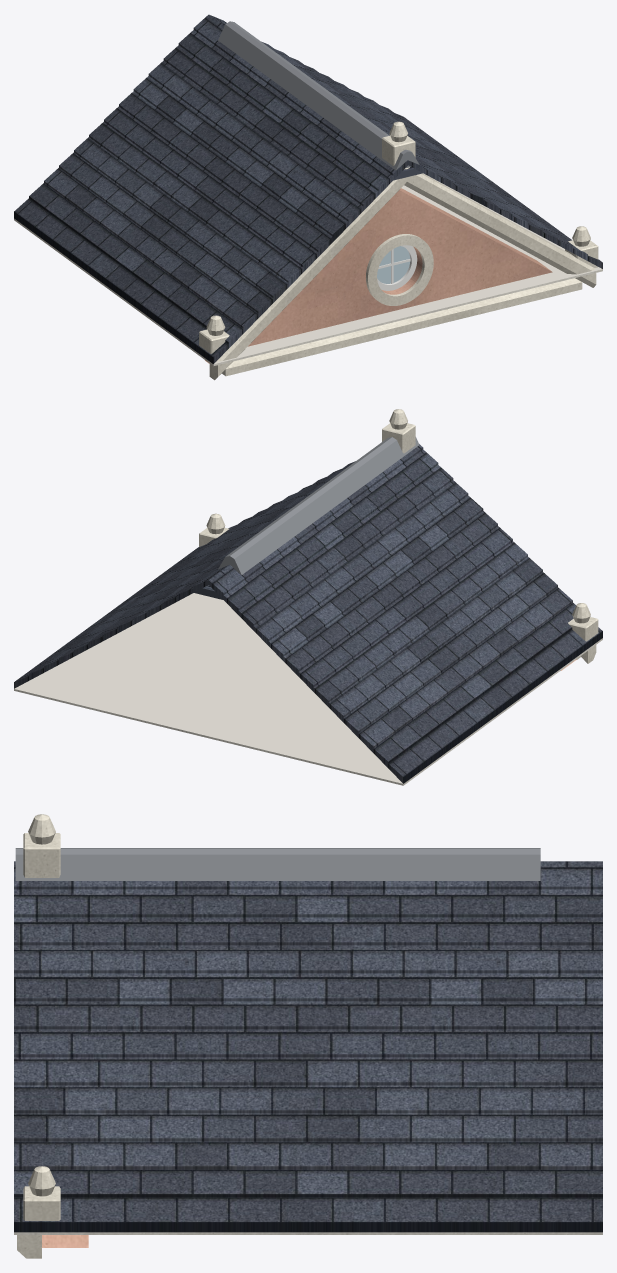
File: pediment.glb
3 renders of one model, top to bottom at view 1: azimuth 30°, elevation 25°; view 2: azimuth 150°, elevation 25°; view 3: azimuth 270°, elevation 25°, orthographic. The views are drawn at different scales.
Parts seen in each view (by area): view 1: pediment_shingles, pediment_trim, pediment_render, pediment_plaster, pediment_ridge, pediment_glass, pediment_frame; view 2: pediment_shingles, pediment_plaster, pediment_ridge, pediment_trim; view 3: pediment_shingles, pediment_ridge, pediment_trim, pediment_plaster, pediment_render.
Boxes of the visible parts, x1=… form: pediment_shingles: x1=14, y1=14, x2=602, y2=363; pediment_trim: x1=199, y1=121, x2=598, y2=380; pediment_render: x1=205, y1=188, x2=552, y2=363; pediment_plaster: x1=14, y1=173, x2=602, y2=366; pediment_ridge: x1=218, y1=21, x2=419, y2=170; pediment_glass: x1=377, y1=246, x2=410, y2=283; pediment_frame: x1=377, y1=245, x2=417, y2=290; pediment_shingles: x1=14, y1=444, x2=602, y2=783; pediment_plaster: x1=14, y1=593, x2=602, y2=785; pediment_ridge: x1=218, y1=437, x2=419, y2=574; pediment_trim: x1=199, y1=409, x2=598, y2=663; pediment_shingles: x1=14, y1=861, x2=602, y2=1232; pediment_ridge: x1=15, y1=848, x2=540, y2=880; pediment_trim: x1=17, y1=814, x2=60, y2=1258; pediment_plaster: x1=14, y1=1232, x2=602, y2=1234; pediment_render: x1=42, y1=1235, x2=88, y2=1247.
Bounding box in the file's own units: 4.26 × 2.18 × 3.78.
8 materials, 4 textured.
